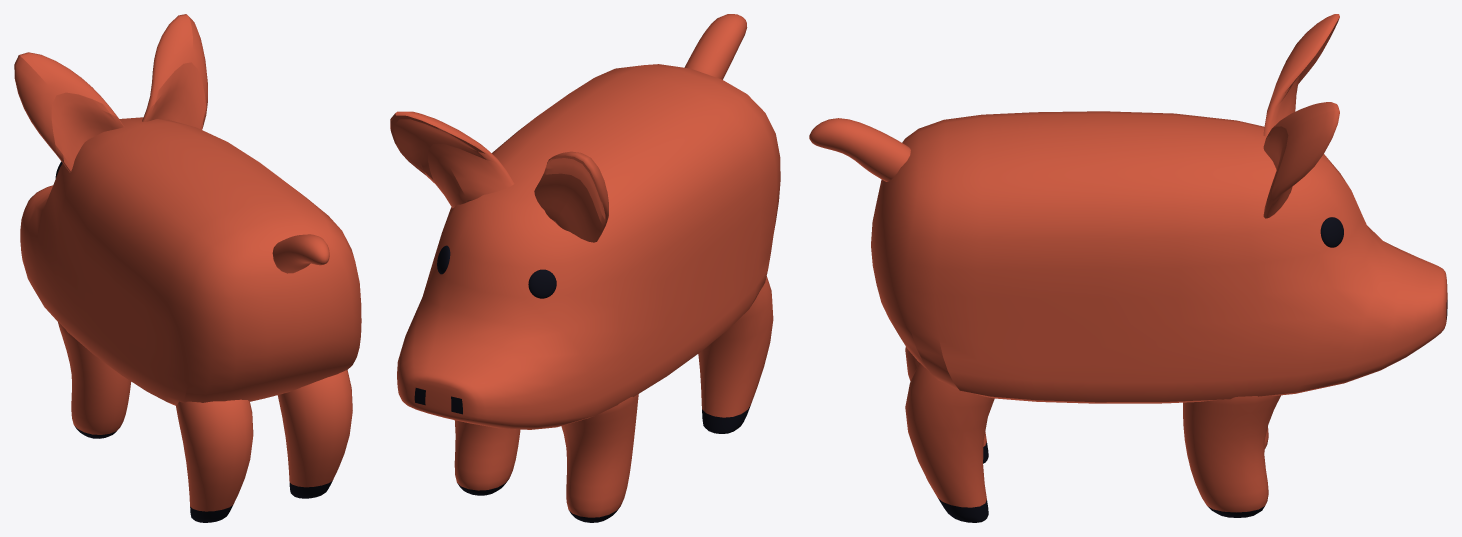
The model's file is Pig.fbx.
The picture shows the model from 3 angles, left to right: view 1: azimuth 30°, elevation 25°; view 2: azimuth 150°, elevation 25°; view 3: azimuth 270°, elevation 25°; orthographic projection. The views are drawn at different scales.
Parts seen in each view (by area): view 1: Cube.002; view 2: Cube.002; view 3: Cube.002.
Boxes of the visible parts, x1=… form: Cube.002: x1=14, y1=14, x2=361, y2=522; Cube.002: x1=390, y1=14, x2=780, y2=522; Cube.002: x1=809, y1=14, x2=1447, y2=522.
Bounding box in the file's own units: 208 × 393 × 531.
